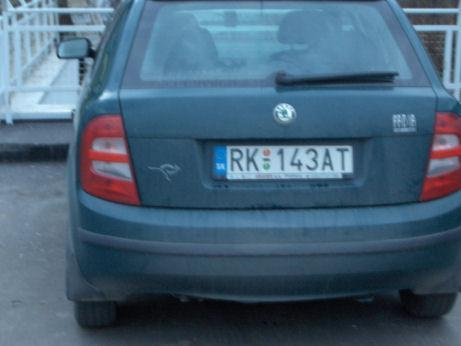placa de veiculo: (203, 141, 360, 195)
